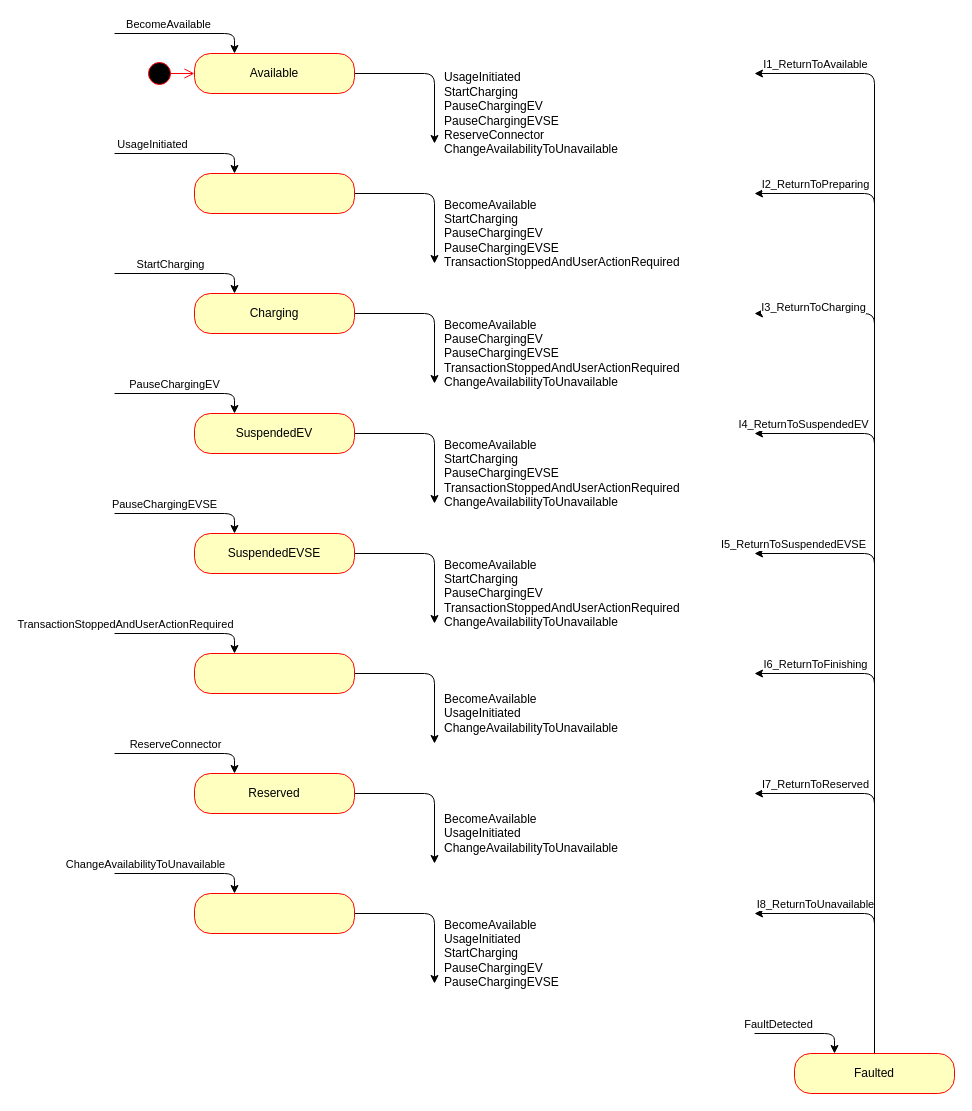
The diagram is 972 pixels wide and 1111 high, and some of its shapes have lost their labels. The centre of each missing label's shape, as x and y in pixels:
Finishing: the point at 274,673
Preparing: the point at 274,193
Unavailable: the point at 274,913
